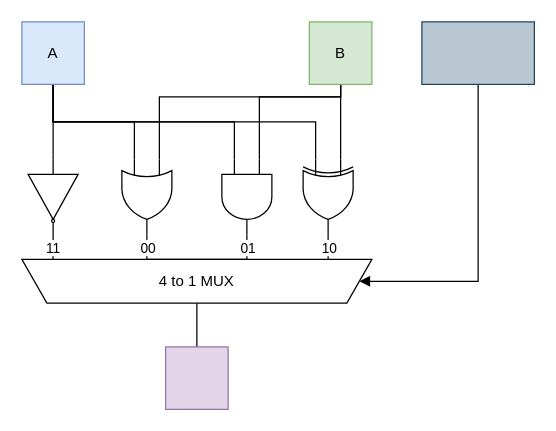
Image size: 556x431. Some labels were removed from this diagram. The centre of each missing label's shape, as x and y in pixels:
OPCODE: [477,52]
Output: [196,377]
